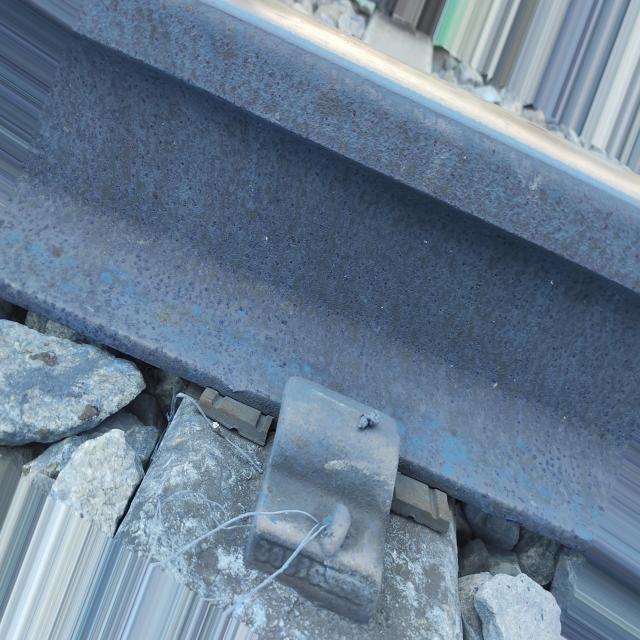Missing Fastener: (234, 343, 438, 640)
